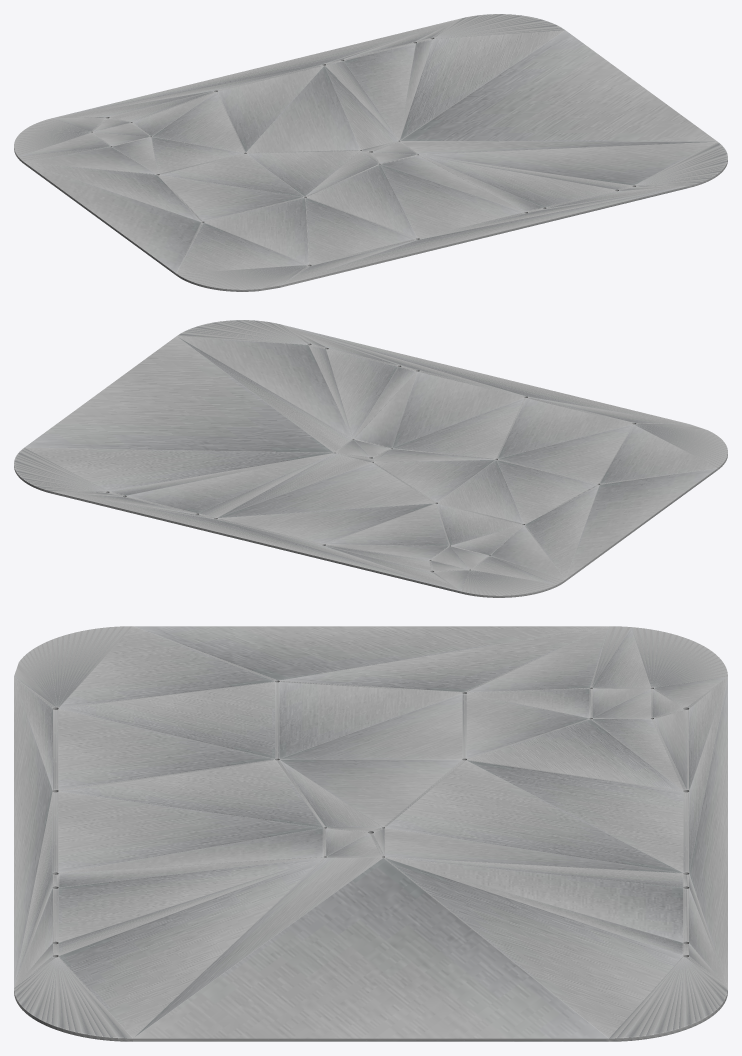
Rendered from plateforme2.dae.
3 views of the same model, one above another, from view 1: azimuth 30°, elevation 25°; view 2: azimuth 150°, elevation 25°; view 3: azimuth 270°, elevation 25° (orthographic). The views are drawn at different scales.
Visible parts, largest first — view 1: Plateforme2; view 2: Plateforme2; view 3: Plateforme2.
Boxes of the visible parts, x1,y1,x2,y2 form: Plateforme2: (14,14,727,291); Plateforme2: (14,320,727,597); Plateforme2: (14,626,727,1041).
Bounding box in the file's own units: 0.82 × 0.6 × 0.003.
Materials: 1 (1 with a texture image).
